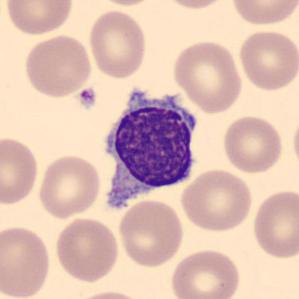Lymphocyte: (96, 82, 204, 213)
Platelets: (77, 87, 98, 110)
RBC: (170, 38, 244, 113), (178, 166, 254, 233), (116, 198, 185, 268), (21, 33, 93, 99), (53, 216, 121, 284), (86, 7, 149, 80), (36, 152, 103, 220), (0, 224, 53, 299), (236, 28, 298, 92), (220, 113, 285, 174), (168, 247, 242, 299), (250, 187, 298, 261), (0, 134, 41, 207), (3, 0, 75, 37), (229, 0, 298, 27), (69, 288, 148, 299), (159, 0, 231, 11), (290, 112, 299, 171), (92, 0, 158, 7)
